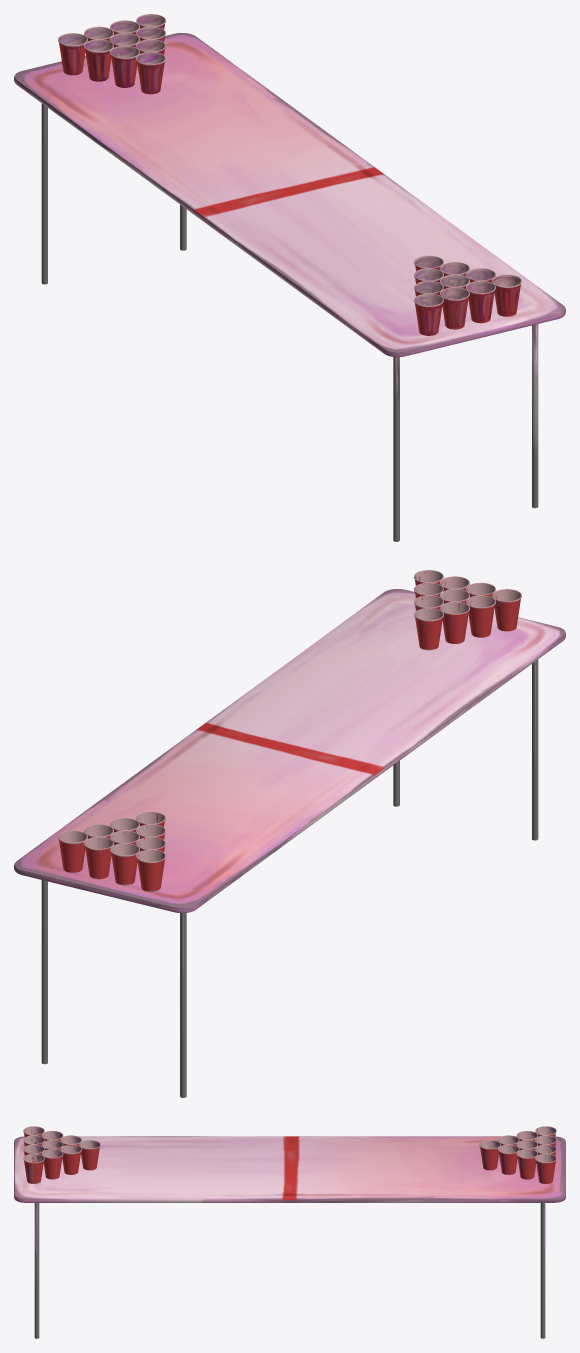
Rendered from sterni_bierpong.fbx.
3 renders of one model, top to bottom at view 1: azimuth 30°, elevation 25°; view 2: azimuth 150°, elevation 25°; view 3: azimuth 270°, elevation 25°, orthographic. The views are drawn at different scales.
Parts seen in each view (by area): view 1: Cube, Cylinder.012, Cylinder, Cylinder.014, Cylinder.026, Cylinder.001, Cylinder.027, Cylinder.032, Cylinder.009, Cylinder.029, Cylinder.008, Cylinder.010; view 2: Cube, Cylinder.014, Cylinder.013, Cylinder.012, Cylinder.010, Cylinder.011, Cylinder.004, Cylinder.007, Cylinder.025, Cylinder.005, Cylinder.024, Cylinder.026; view 3: Cube, Cylinder, Cylinder.013, Cylinder.032, Cylinder.004, Cylinder.030, Cylinder.031, Cylinder.002, Cylinder.003, Cylinder.011, Cylinder.001.
Part boxes in pixels (left/top/right/bottom): Cube: left=14, top=33, right=565, bottom=357; Cylinder.012: left=393, top=357, right=399, bottom=541; Cylinder: left=532, top=324, right=538, bottom=508; Cylinder.014: left=41, top=103, right=47, bottom=284; Cylinder.026: left=413, top=293, right=443, bottom=335; Cylinder.001: left=136, top=52, right=165, bottom=94; Cylinder.027: left=440, top=287, right=469, bottom=329; Cylinder.032: left=492, top=274, right=521, bottom=316; Cylinder.009: left=84, top=39, right=113, bottom=81; Cylinder.029: left=466, top=281, right=495, bottom=323; Cylinder.008: left=110, top=45, right=139, bottom=87; Cylinder.010: left=58, top=33, right=87, bottom=75; Cube: left=14, top=589, right=565, bottom=913; Cylinder.014: left=180, top=913, right=186, bottom=1097; Cylinder.013: left=41, top=880, right=47, bottom=1064; Cylinder.012: left=532, top=659, right=538, bottom=840; Cylinder.010: left=136, top=849, right=166, bottom=891; Cylinder.011: left=414, top=608, right=443, bottom=650; Cylinder.004: left=58, top=830, right=87, bottom=872; Cylinder.007: left=110, top=843, right=139, bottom=885; Cylinder.025: left=466, top=595, right=495, bottom=637; Cylinder.005: left=84, top=837, right=113, bottom=879; Cylinder.024: left=440, top=601, right=469, bottom=643; Cylinder.026: left=492, top=589, right=521, bottom=631; Cube: left=14, top=1136, right=565, bottom=1202; Cylinder: left=34, top=1203, right=39, bottom=1338; Cylinder.013: left=540, top=1203, right=545, bottom=1338; Cylinder.032: left=23, top=1153, right=44, bottom=1183; Cylinder.004: left=535, top=1153, right=556, bottom=1183; Cylinder.030: left=60, top=1144, right=81, bottom=1174; Cylinder.031: left=42, top=1149, right=63, bottom=1179; Cylinder.002: left=498, top=1144, right=519, bottom=1174; Cylinder.003: left=516, top=1149, right=537, bottom=1179; Cylinder.011: left=79, top=1140, right=100, bottom=1170; Cylinder.001: left=479, top=1140, right=500, bottom=1170.
Bounding box in the file's own units: 65 × 81.08 × 240.
